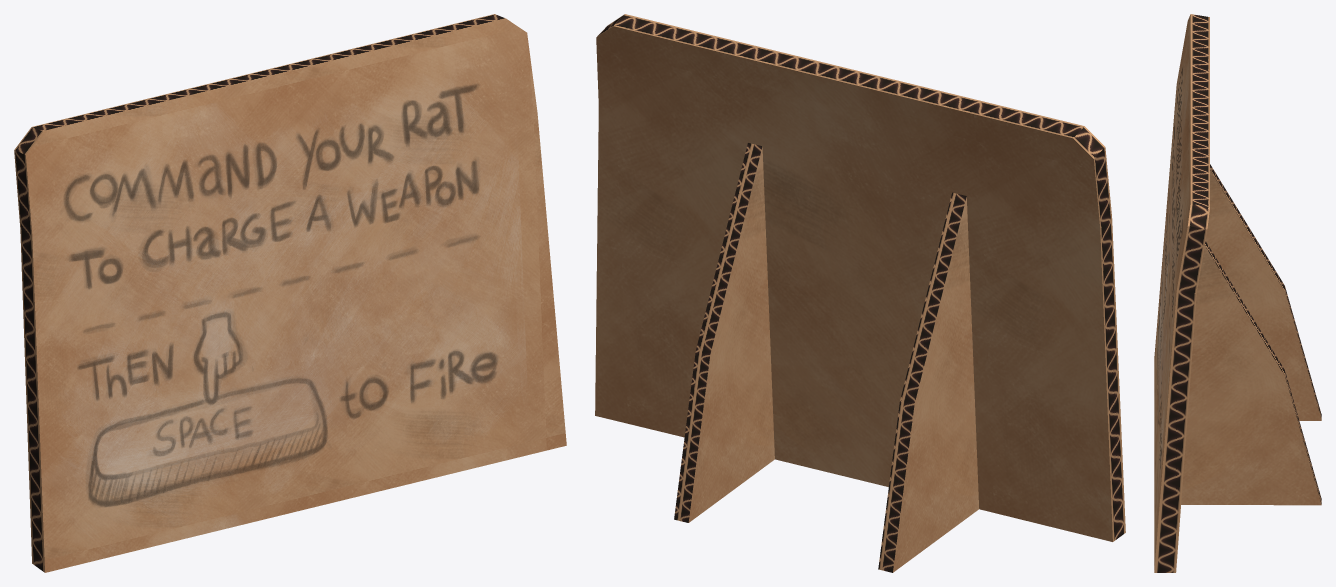
Rendered from Carboard Cut Out Weapon Tutorial.fbx.
3 views of the same model, side by side, from view 1: azimuth 30°, elevation 25°; view 2: azimuth 150°, elevation 25°; view 3: azimuth 270°, elevation 25° (orthographic). The views are drawn at different scales.
Visible parts, largest first — view 1: Cardboard Cut-Out.004; view 2: Cardboard Cut-Out.004; view 3: Cardboard Cut-Out.004.
Boxes of the visible parts, box(x1,y1,x2,y2) form: Cardboard Cut-Out.004: box(14, 14, 566, 572); Cardboard Cut-Out.004: box(595, 14, 1125, 572); Cardboard Cut-Out.004: box(1154, 14, 1321, 572).
Bounding box in the file's own units: 132 × 102 × 43.65.
